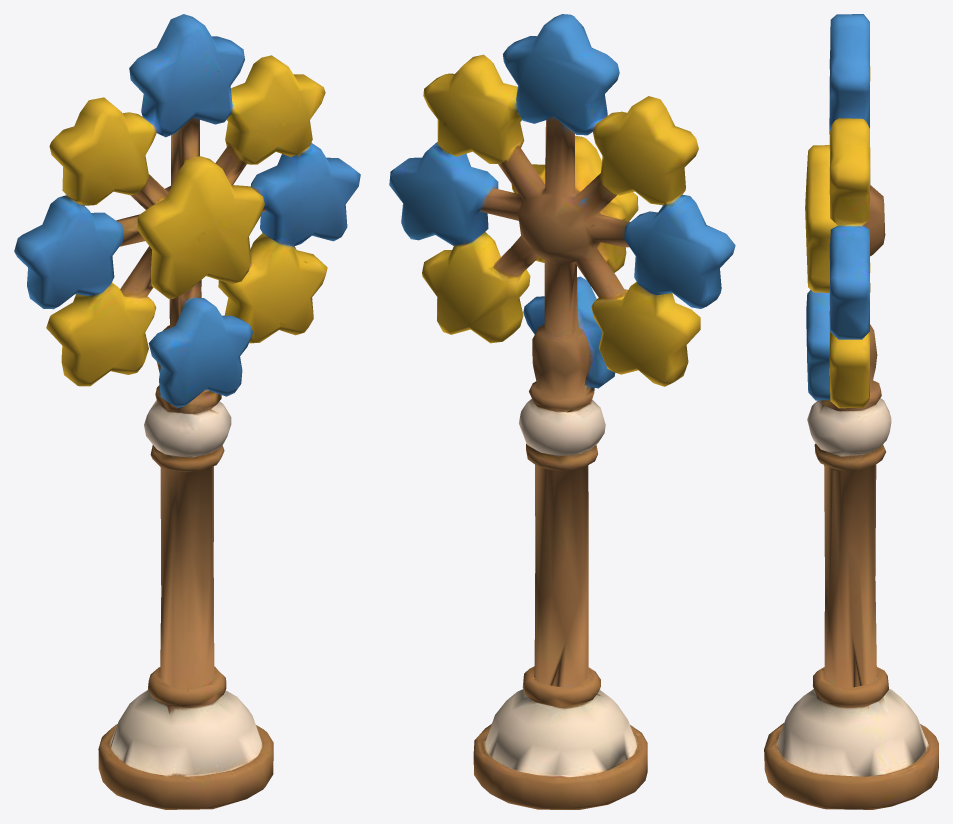
The model's file is matarikistars.glb.
3 renders of one model, left to right at view 1: azimuth 30°, elevation 25°; view 2: azimuth 150°, elevation 25°; view 3: azimuth 270°, elevation 25°, orthographic.
Visible parts, largest first — view 1: model; view 2: model; view 3: model.
Boxes of the visible parts, x1,y1,x2,y2 form: model: (14,14,360,809); model: (389,14,735,809); model: (764,14,938,809).
Size of the model in its own units: 0.877 by 1.9 by 0.3951.
1 material, 1 textured.
